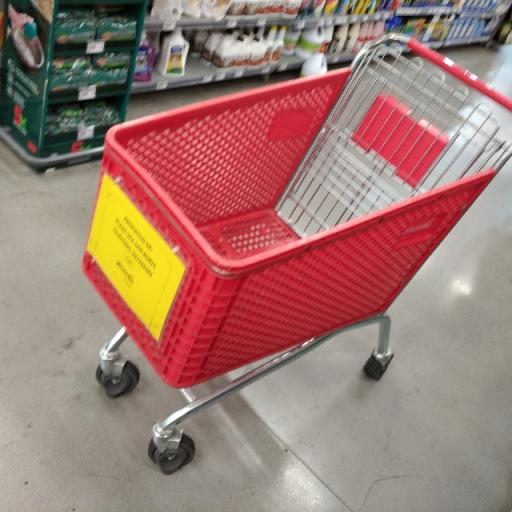shopping_cart: (80, 29, 512, 476)
